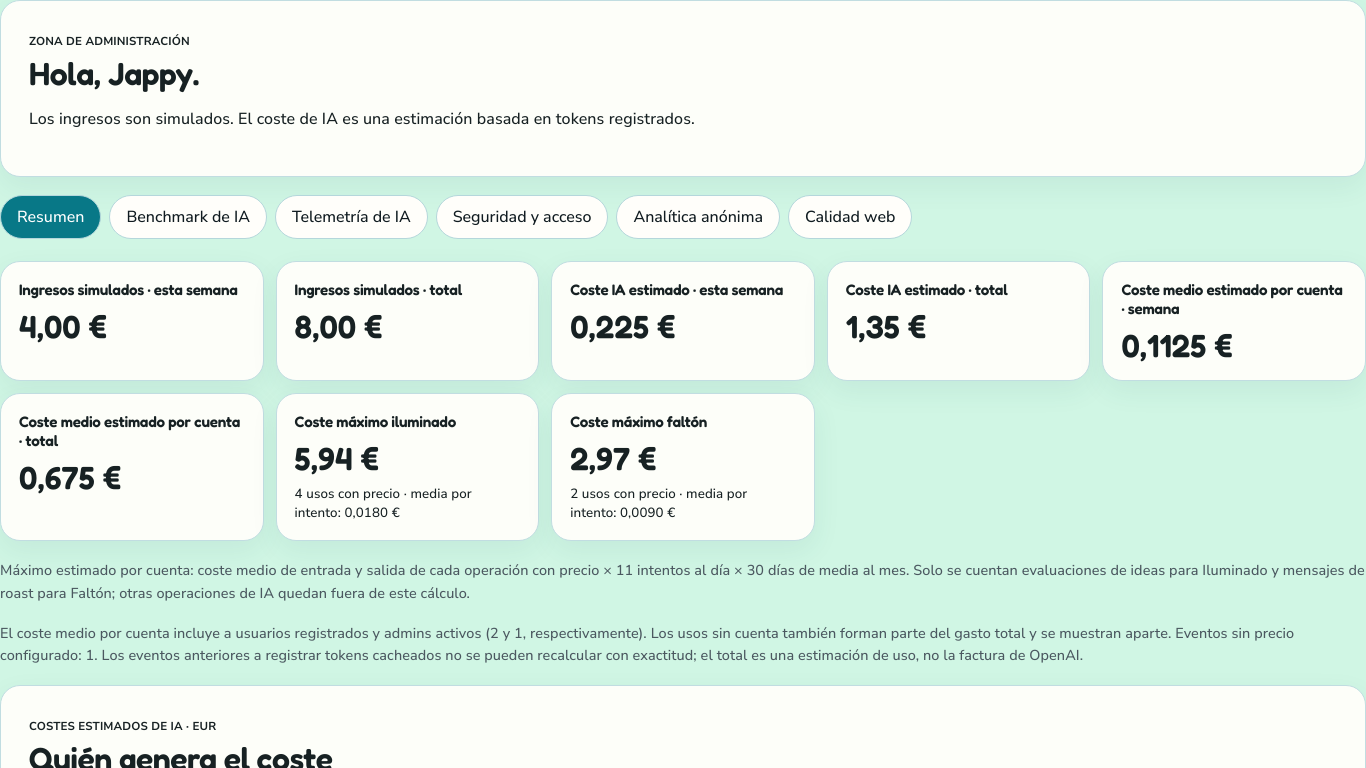
it: AdminDashboard › shows synthetic Lighthouse scores and vitals in the web-quality tab
Expected: the heading "Hola, Jappy." is shown, [29,54,199,93]
Step 1. Click the tab "Calidad web" → point(850, 217), box [788,195,912,239]
(page scrolled)
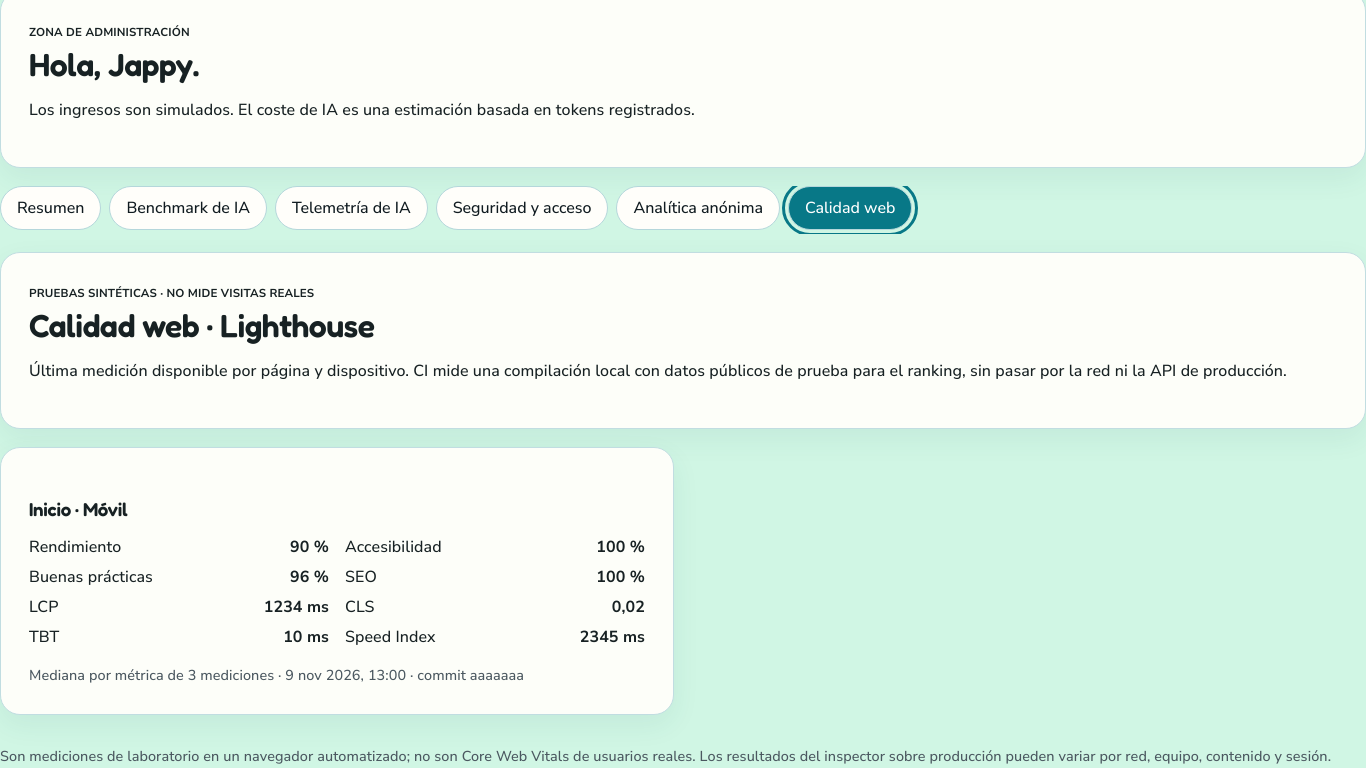
Result: the heading "Calidad web · Lighthouse" is shown at [29,306,374,345]
Result: the text "90 %" is shown at [290,536,329,558]
Result: the text "1234 ms" is shown at [264,596,329,618]
